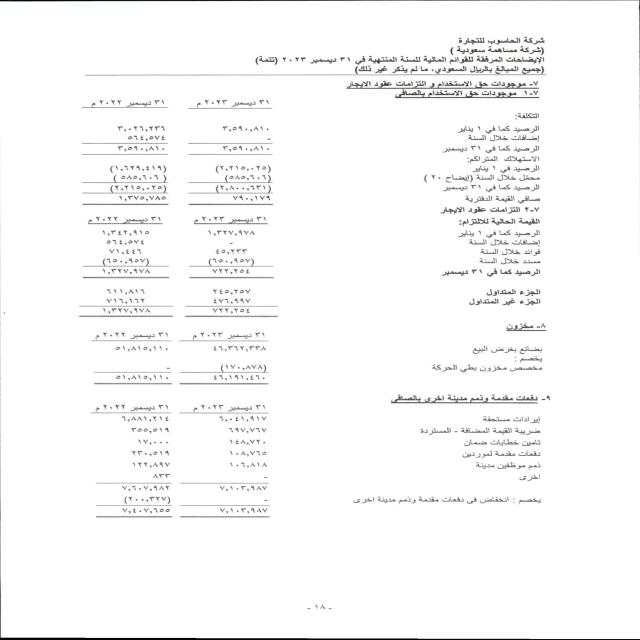notes: (421, 56, 553, 66)
table: (62, 89, 292, 535)
